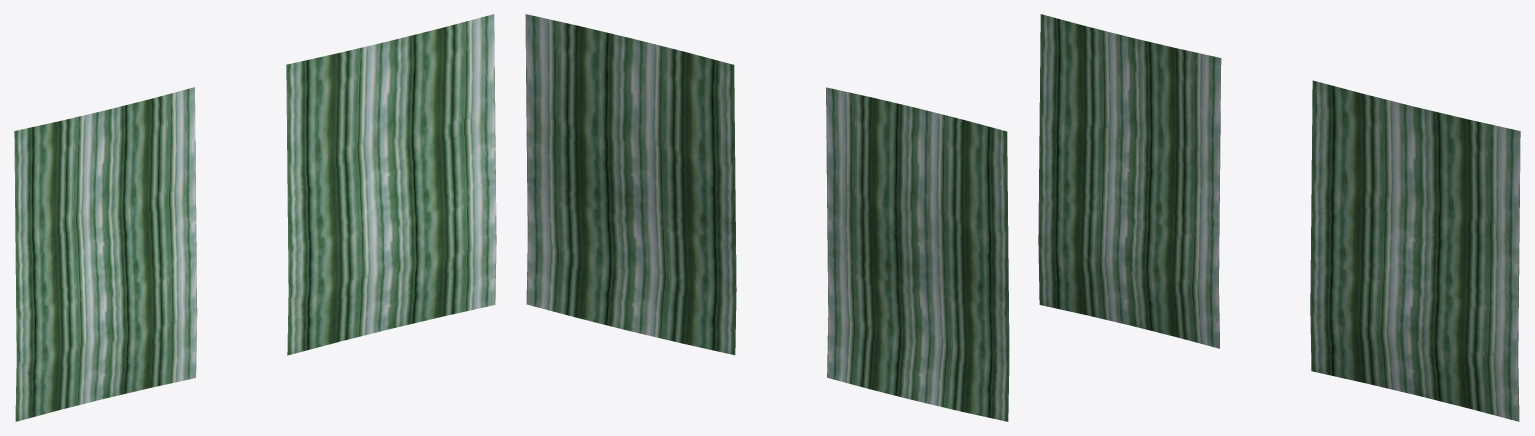
File: curtales.fbx
3 renders of one model, left to right at view 1: azimuth 30°, elevation 25°; view 2: azimuth 150°, elevation 25°; view 3: azimuth 330°, elevation 25°, orthographic.
Visible parts, largest first — view 1: Plane025, Plane027; view 2: Plane025, Plane027; view 3: Plane025, Plane027.
Part boxes in pixels (left/top/right/bottom): Plane025: left=286, top=14, right=496, bottom=355; Plane027: left=14, top=87, right=197, bottom=421; Plane025: left=525, top=14, right=736, bottom=355; Plane027: left=826, top=87, right=1009, bottom=421; Plane025: left=1310, top=80, right=1520, bottom=421; Plane027: left=1038, top=14, right=1221, bottom=348.
Size of the model in its own units: 752 by 434 by 14.03.
1 material, 1 textured.
